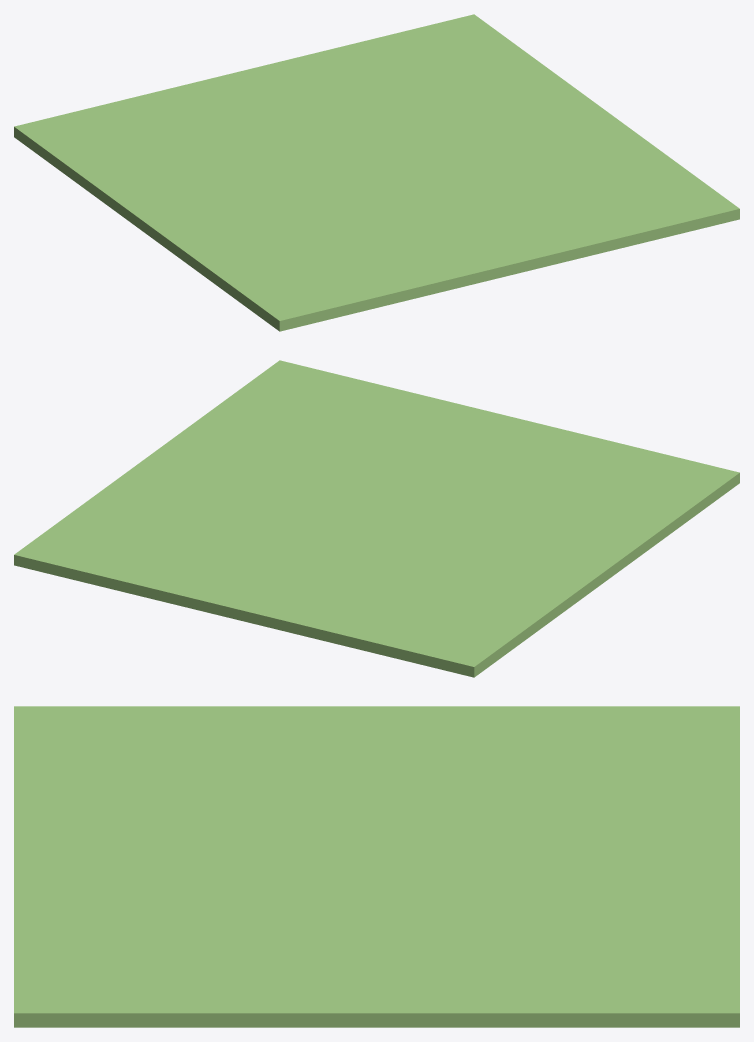
The model's file is Grass.fbx.
The picture shows the model from 3 angles, top to bottom: view 1: azimuth 30°, elevation 25°; view 2: azimuth 150°, elevation 25°; view 3: azimuth 270°, elevation 25°; orthographic projection. The views are drawn at different scales.
Visible parts, largest first — view 1: Cube; view 2: Cube; view 3: Cube.
Boxes of the visible parts, <box> form: Cube: <box>14,14,739,331</box>; Cube: <box>14,360,739,677</box>; Cube: <box>14,706,739,1027</box>.
Size of the model in its own units: 701 by 15.44 by 701.
